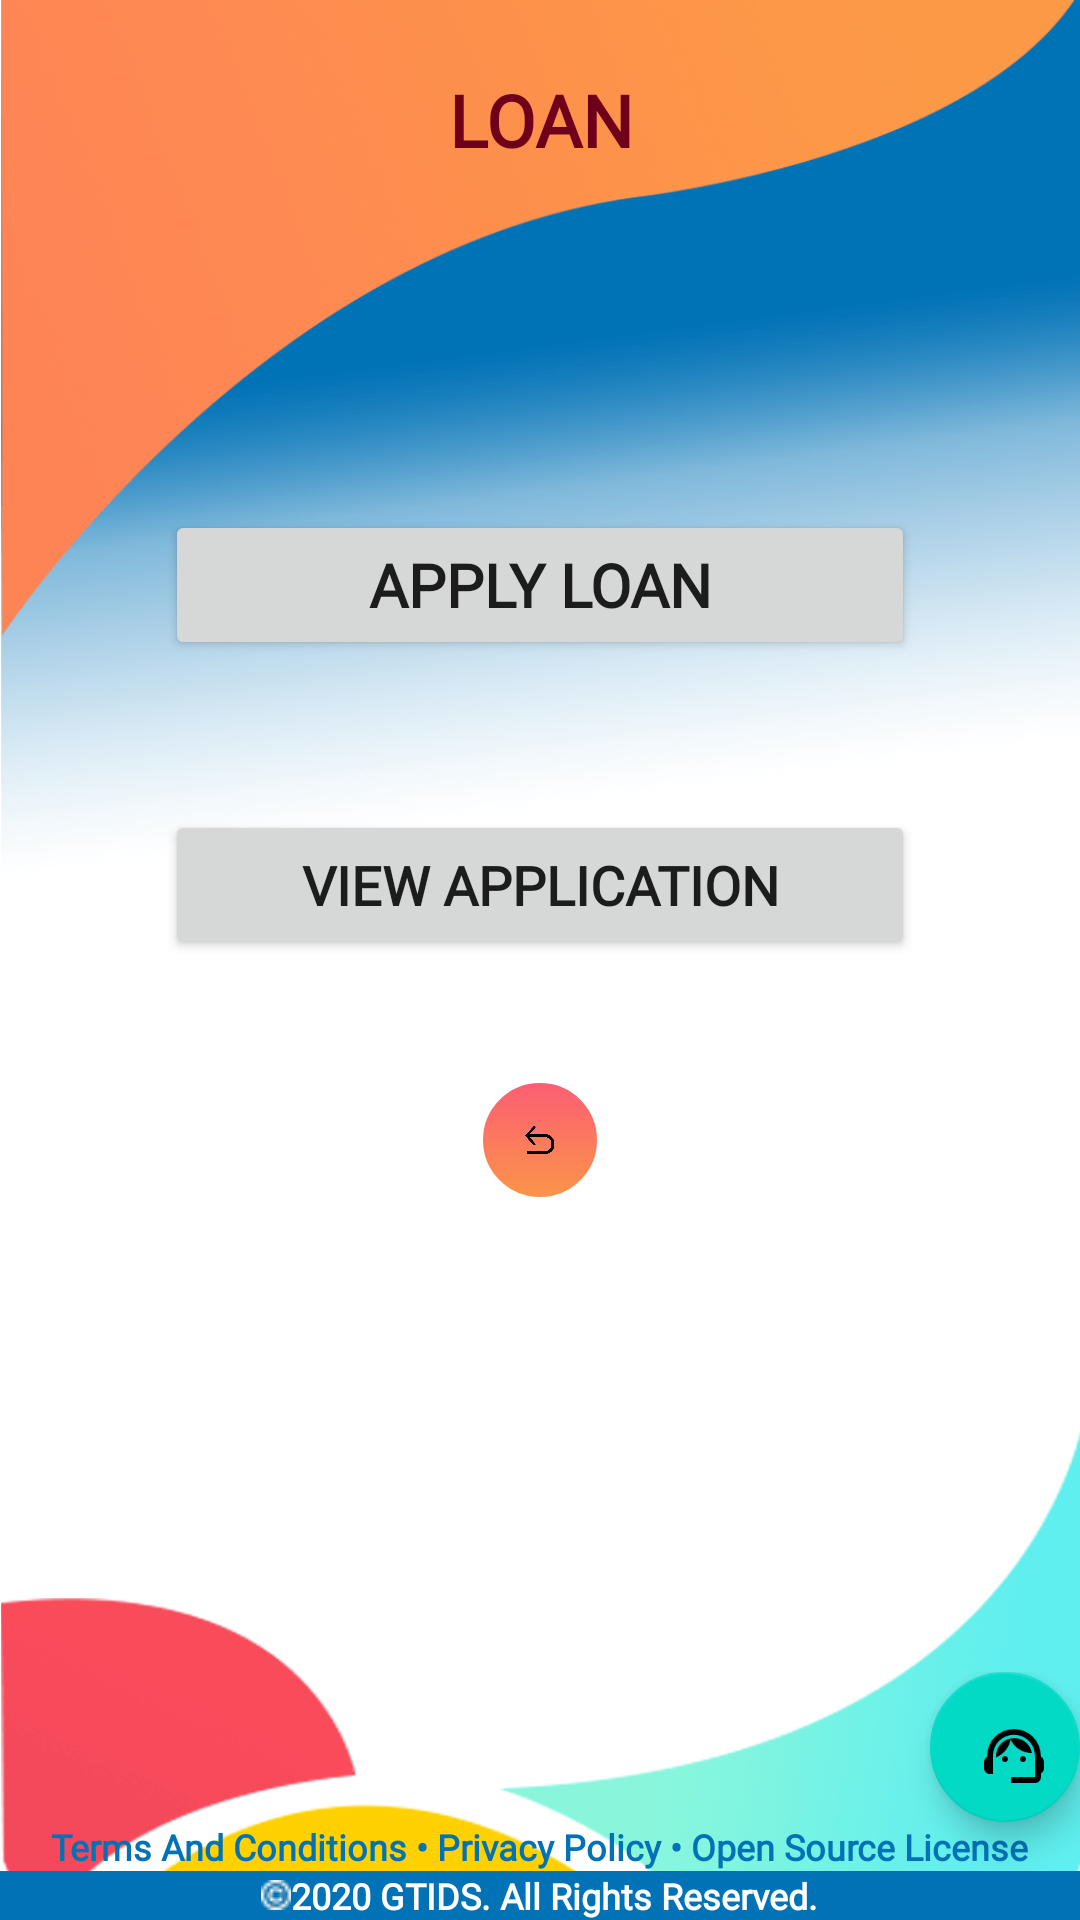

Named icons in this screenshot (1080 x 1920) and their centers, (x=x, y=y):
backarrow: (x=540, y=1140)
copyright: (x=276, y=1895)
support: (x=1005, y=1747)
